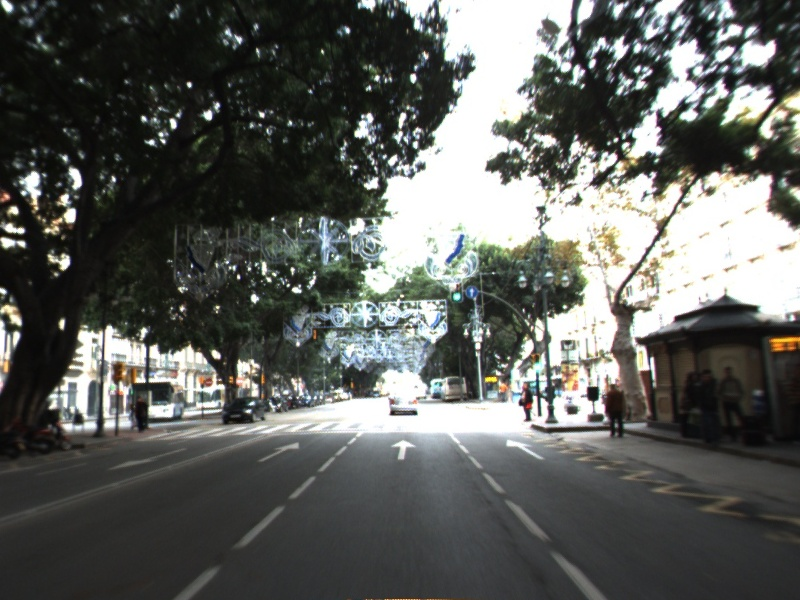STRAIGHT: (255, 439, 302, 464), (503, 437, 549, 462), (388, 437, 419, 461)
